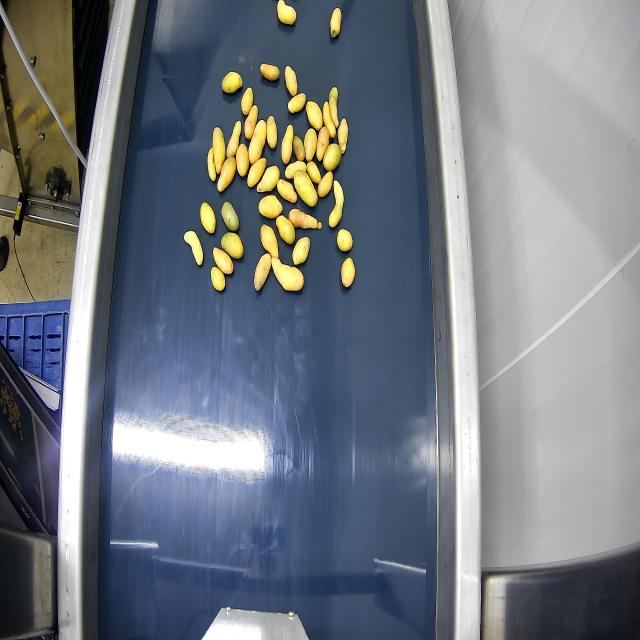Baby Potato: (272, 258, 303, 291), (294, 171, 317, 207), (248, 120, 266, 164), (288, 208, 321, 229), (329, 181, 343, 228), (217, 158, 236, 192), (184, 231, 203, 265), (254, 254, 271, 291), (212, 128, 225, 174), (260, 224, 278, 257), (221, 232, 243, 259), (226, 120, 242, 157), (259, 195, 282, 219), (247, 158, 266, 187), (257, 167, 279, 192), (213, 248, 233, 274), (244, 104, 258, 140), (276, 216, 294, 244), (323, 144, 341, 171), (281, 125, 293, 165), (277, 179, 297, 203), (323, 102, 336, 138), (200, 202, 215, 233), (306, 101, 322, 130), (222, 202, 238, 231), (277, 0, 296, 24), (316, 126, 329, 161), (293, 237, 309, 265), (222, 72, 242, 94), (341, 257, 355, 288), (304, 128, 317, 161), (285, 161, 307, 179), (236, 144, 248, 177), (329, 87, 338, 128), (288, 93, 306, 113), (330, 8, 342, 38), (285, 66, 297, 96), (318, 172, 332, 197), (337, 229, 352, 252), (211, 267, 225, 291), (306, 161, 321, 183), (267, 116, 277, 149), (241, 88, 253, 115), (260, 64, 279, 81), (207, 147, 216, 182), (338, 119, 347, 153), (293, 136, 304, 160)
